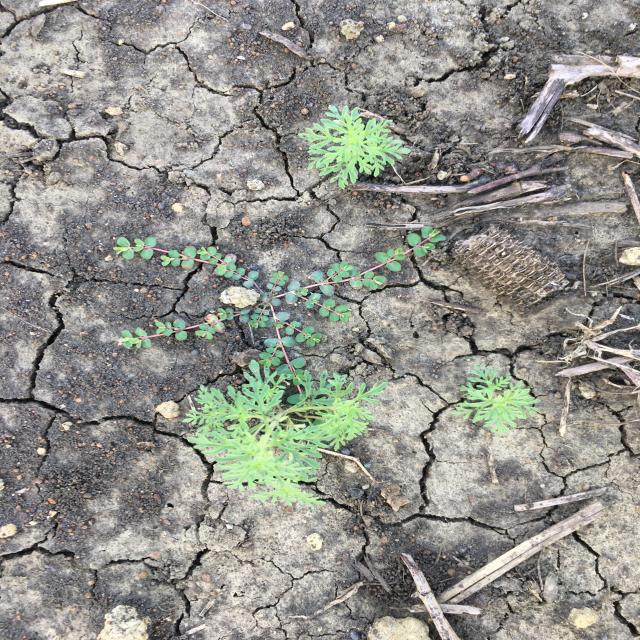Ragweed: (180, 357, 392, 512), (298, 103, 414, 192), (454, 362, 547, 437)
SpottedSpurge: (111, 224, 448, 395)
